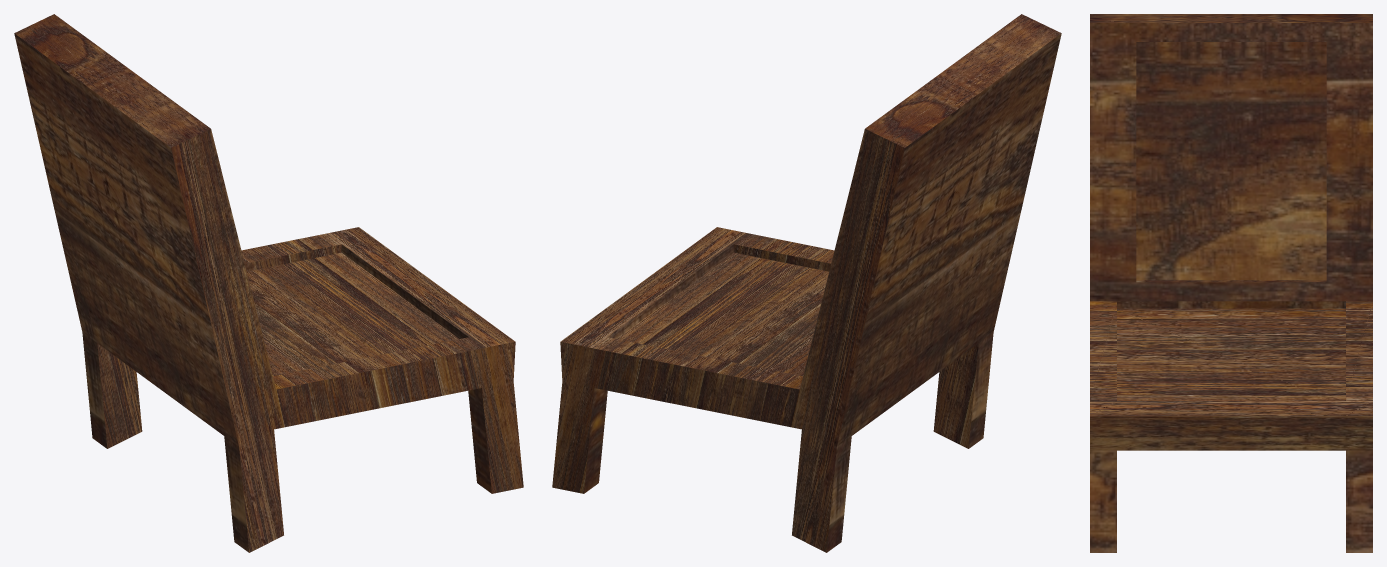
File: Kursiii.fbx
3 renders of one model, left to right at view 1: azimuth 30°, elevation 25°; view 2: azimuth 150°, elevation 25°; view 3: azimuth 270°, elevation 25°, orthographic. The views are drawn at different scales.
Parts seen in each view (by area): view 1: Kursiii; view 2: Kursiii; view 3: Kursiii.
Part boxes in pixels (x1=…): Kursiii: x1=14, y1=14, x2=523, y2=552; Kursiii: x1=552, y1=14, x2=1061, y2=552; Kursiii: x1=1090, y1=14, x2=1372, y2=552.
Bounding box in the file's own units: 99.97 × 118 × 76.95.
